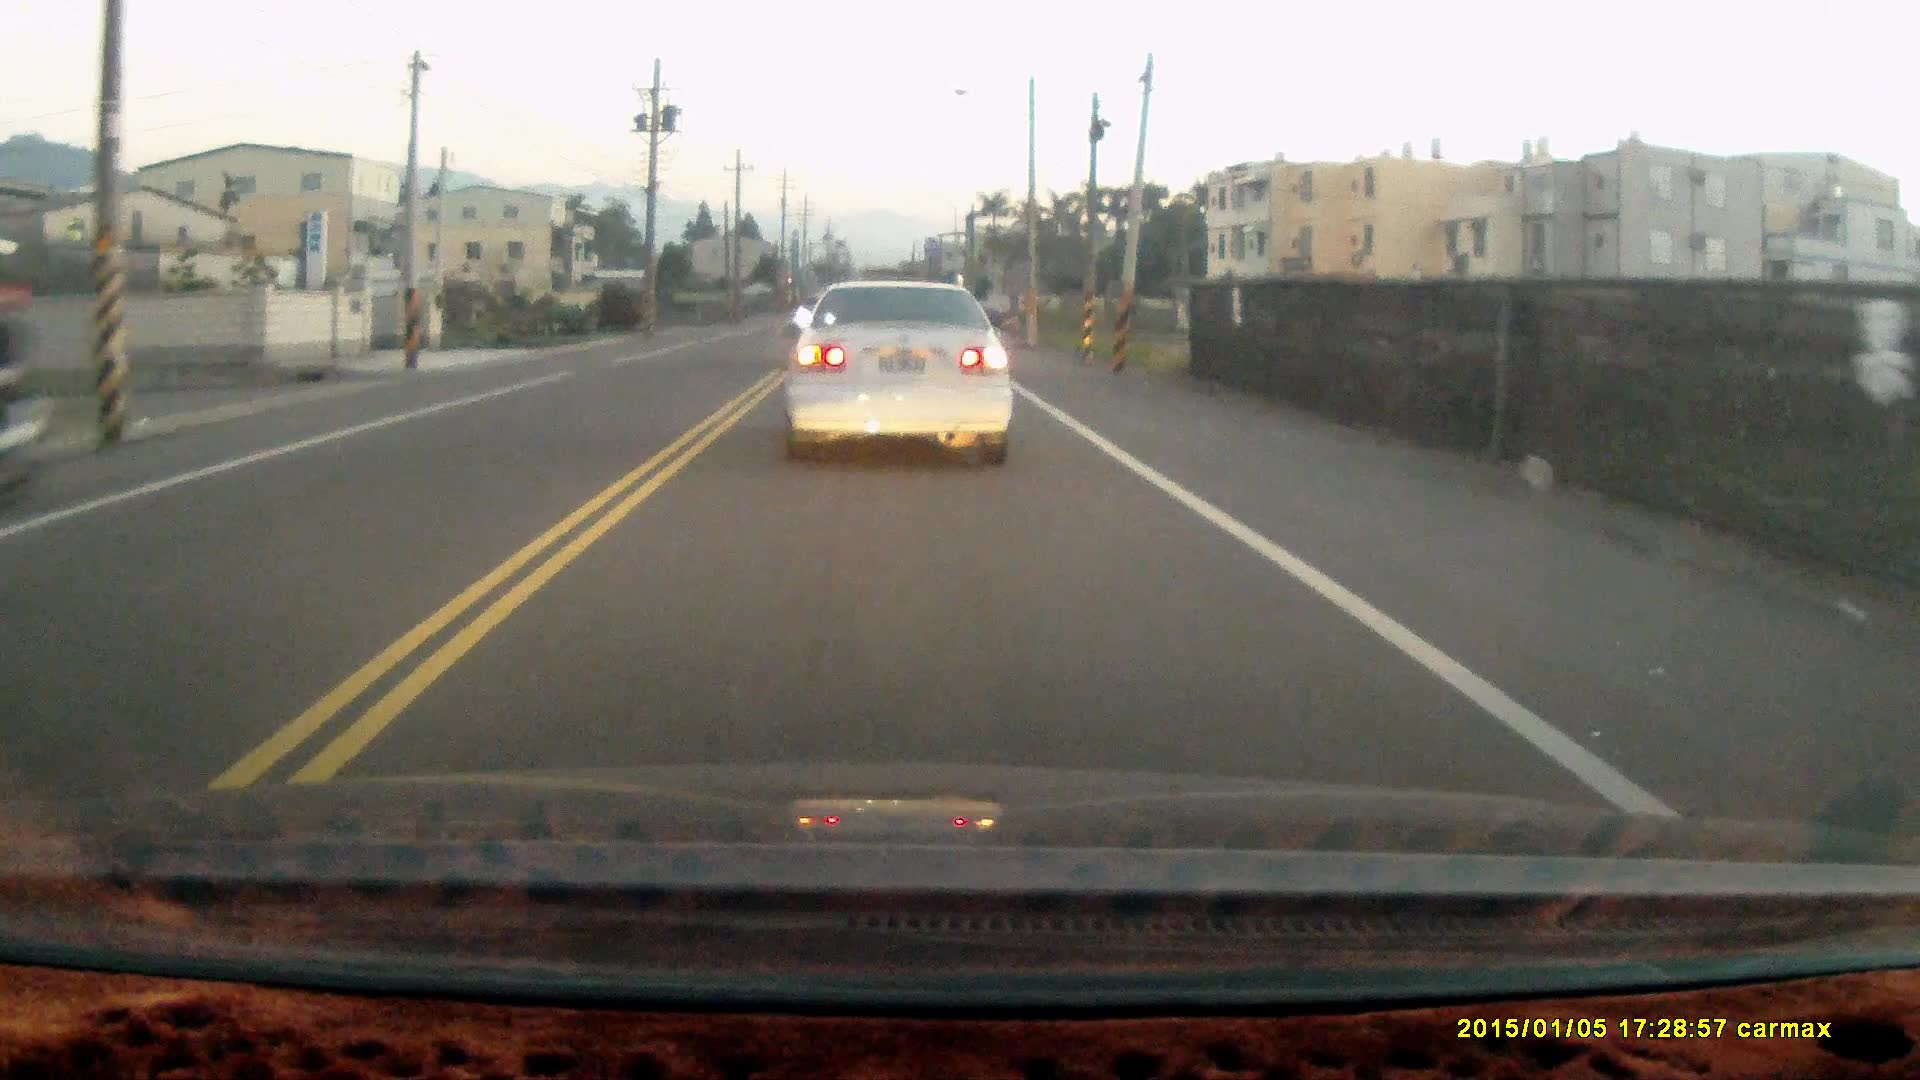rider: (0, 275, 46, 518)
vehicle: (781, 277, 1018, 467)
